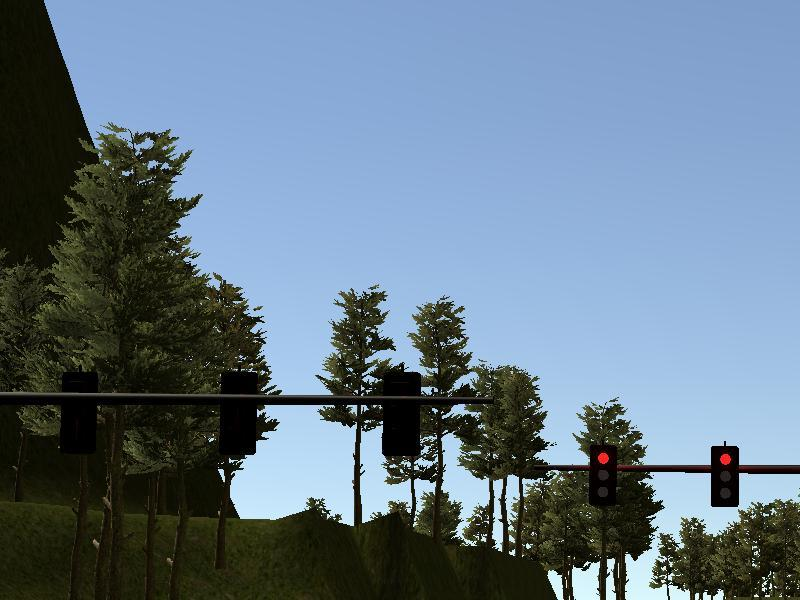Red: (710, 445, 739, 506), (591, 445, 617, 503)
